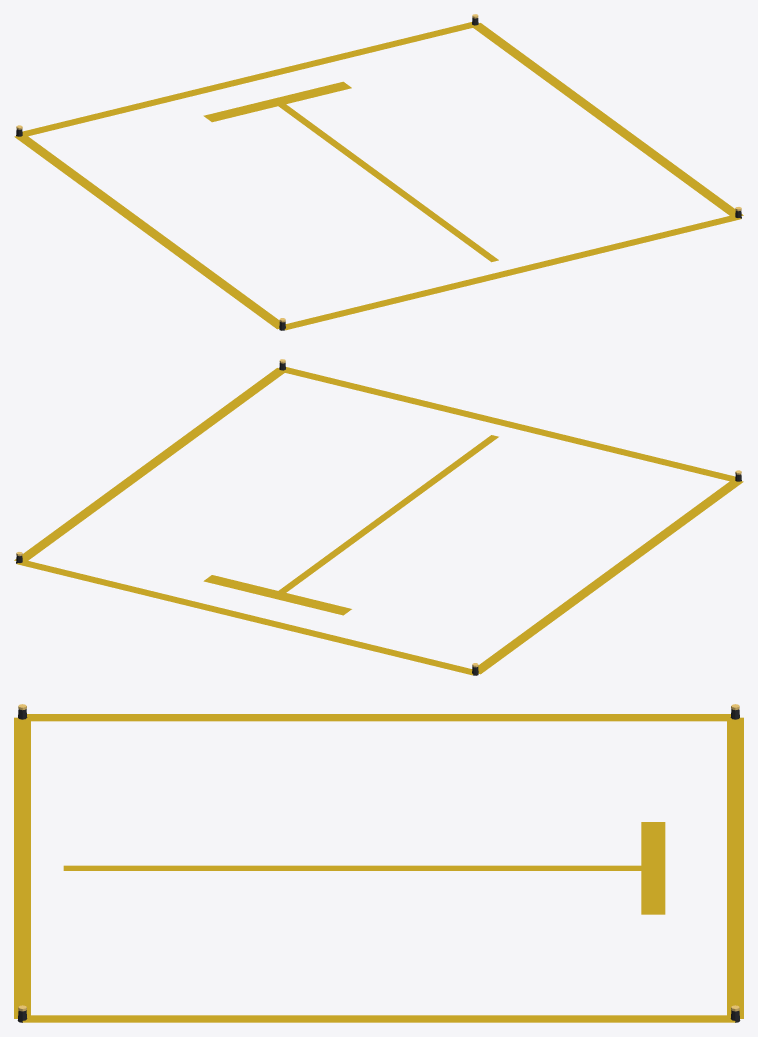
The model's file is let_stani.glb.
3 renders of one model, top to bottom at view 1: azimuth 30°, elevation 25°; view 2: azimuth 150°, elevation 25°; view 3: azimuth 270°, elevation 25°, orthographic. The views are drawn at different scales.
Visible parts, largest first — view 1: dum; view 2: dum; view 3: dum.
Part boxes in pixels (x1=…): dum: x1=14, y1=18, x2=743, y2=330; dum: x1=14, y1=363, x2=743, y2=675; dum: x1=14, y1=709, x2=743, y2=1022.
Size of the model in its own units: 10.65 by 0.2197 by 10.65.
Materials: 1 (1 with a texture image).
